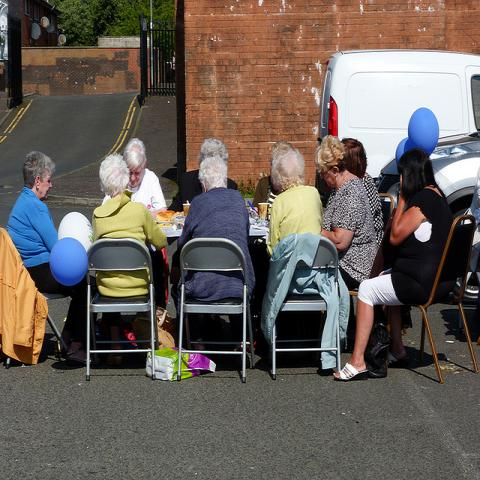car: (376, 130, 480, 220)
truck: (317, 49, 479, 185)
